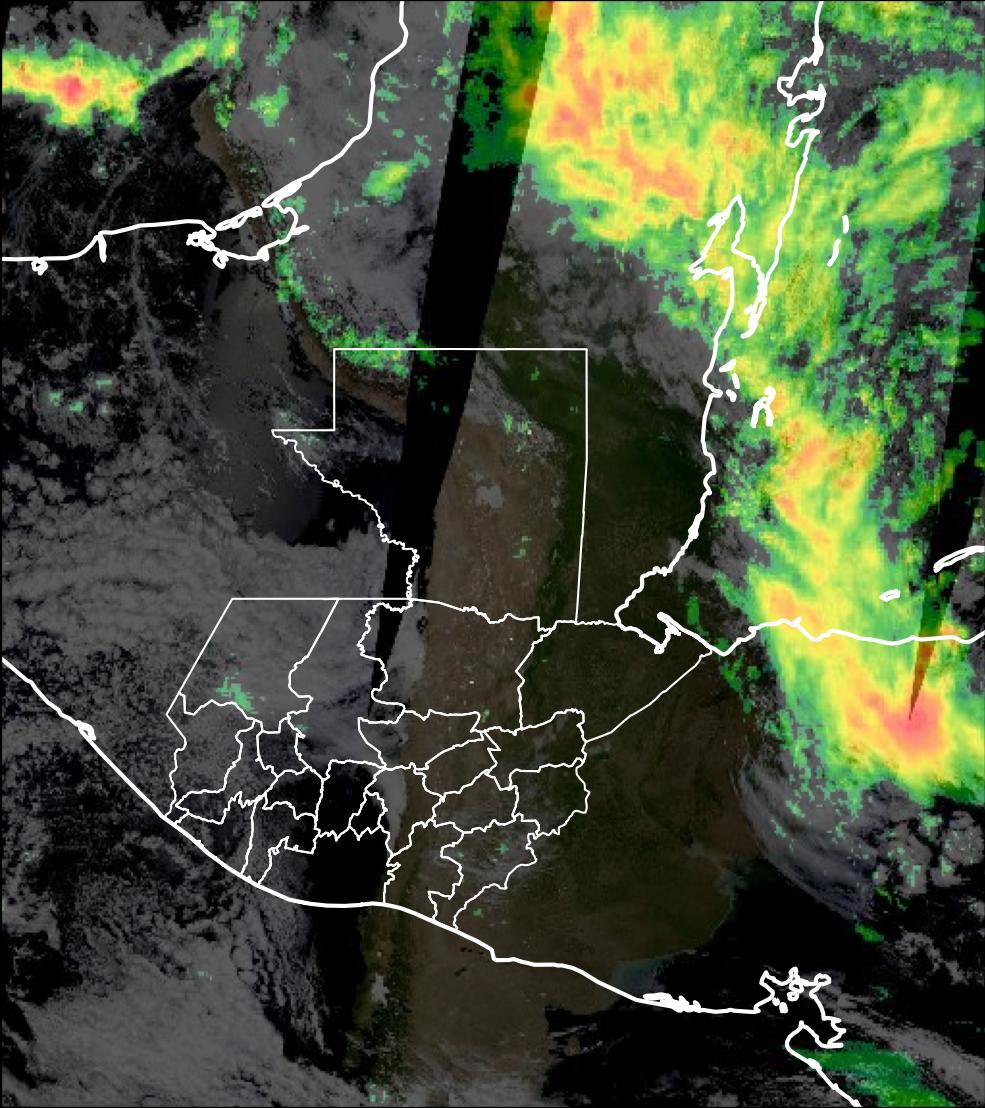precipitacion: (521, 66, 700, 233), (844, 662, 982, 807), (1, 43, 140, 116)
